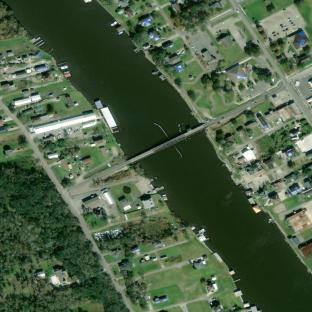Floresta: (0, 162, 127, 312), (113, 218, 174, 255), (3, 286, 82, 312), (118, 259, 147, 308), (179, 0, 211, 30)
